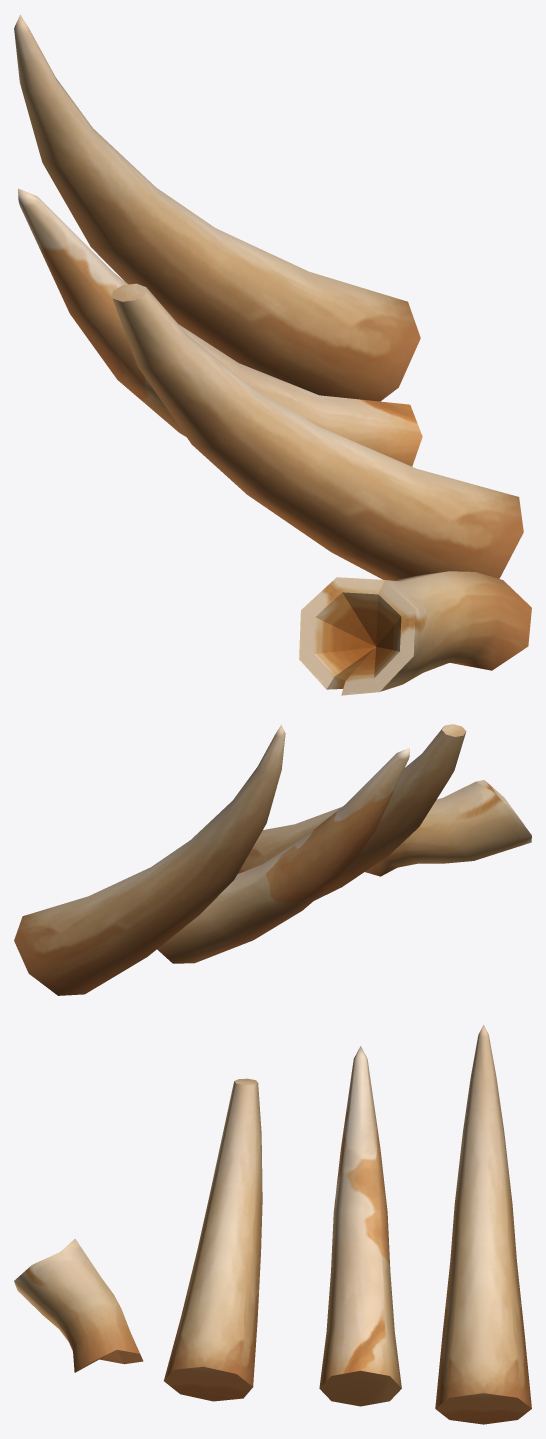
Rendered from Stage_ShaMo_GuTou06.FBX.
The picture shows the model from 3 angles, top to bottom: view 1: azimuth 30°, elevation 25°; view 2: azimuth 150°, elevation 25°; view 3: azimuth 270°, elevation 25°; orthographic projection. The views are drawn at different scales.
Visible parts, largest first — view 1: Stage_ShaMo_GuTou06; view 2: Stage_ShaMo_GuTou06; view 3: Stage_ShaMo_GuTou06.
Boxes of the visible parts, <box> form: Stage_ShaMo_GuTou06: <box>14,14,531,695</box>; Stage_ShaMo_GuTou06: <box>14,724,531,995</box>; Stage_ShaMo_GuTou06: <box>14,1024,531,1424</box>.
Size of the model in its own units: 571 by 546 by 817.
